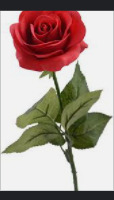RedRose: (9, 11, 80, 71)
